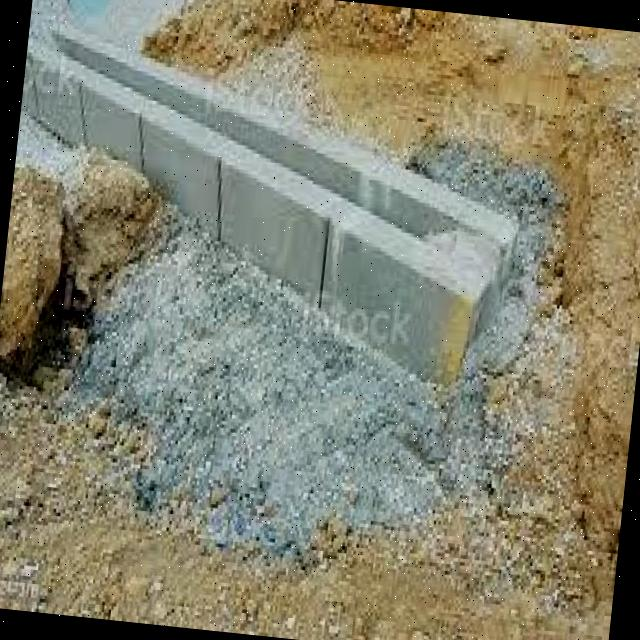curb: (305, 219, 515, 381), (150, 131, 369, 277), (19, 36, 176, 188)
